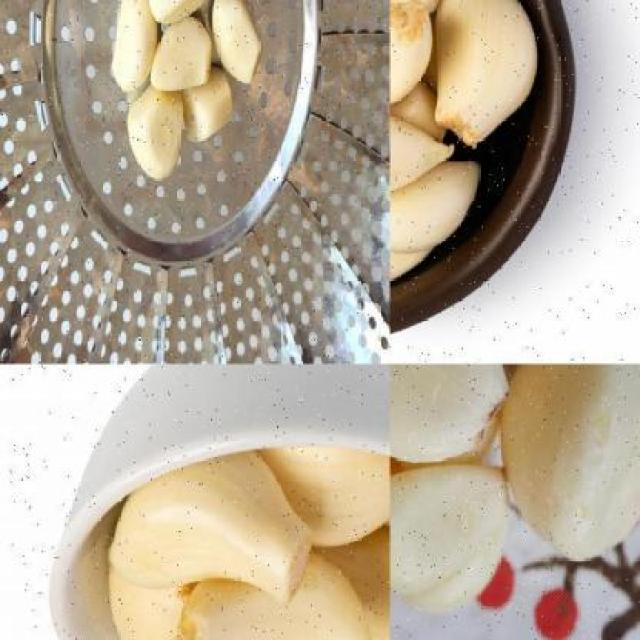garlic: (390, 364, 639, 620), (106, 434, 389, 638), (106, 446, 322, 610), (83, 0, 263, 182), (498, 362, 640, 566), (387, 463, 513, 602), (435, 0, 537, 148), (390, 365, 516, 471), (390, 145, 488, 250), (124, 82, 197, 185), (174, 59, 240, 150), (144, 18, 220, 94), (103, 0, 163, 95), (390, 4, 441, 114), (203, 1, 267, 82)
